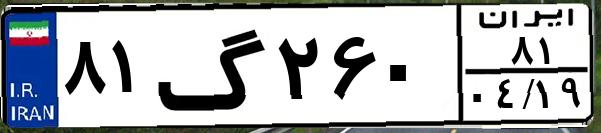0: (385, 28, 445, 110), (470, 70, 495, 125)
1: (110, 28, 156, 98), (537, 27, 568, 80), (535, 70, 560, 125)
2: (270, 28, 330, 110)
4: (495, 70, 520, 125)
6: (330, 28, 385, 110)
8: (57, 26, 110, 100), (508, 27, 537, 80)
9: (560, 70, 590, 125)
گ: (156, 12, 270, 120)
